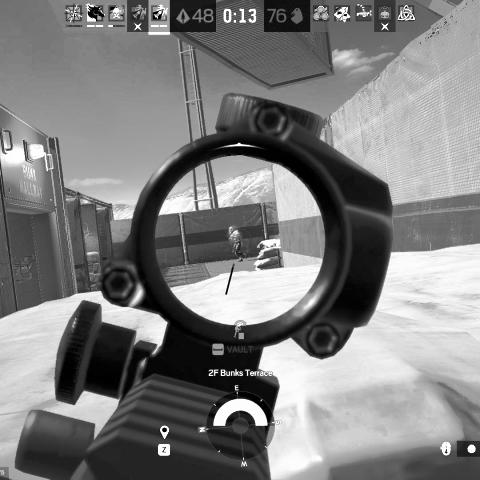Character: (228, 226, 249, 262)
Head: (229, 226, 234, 232)
